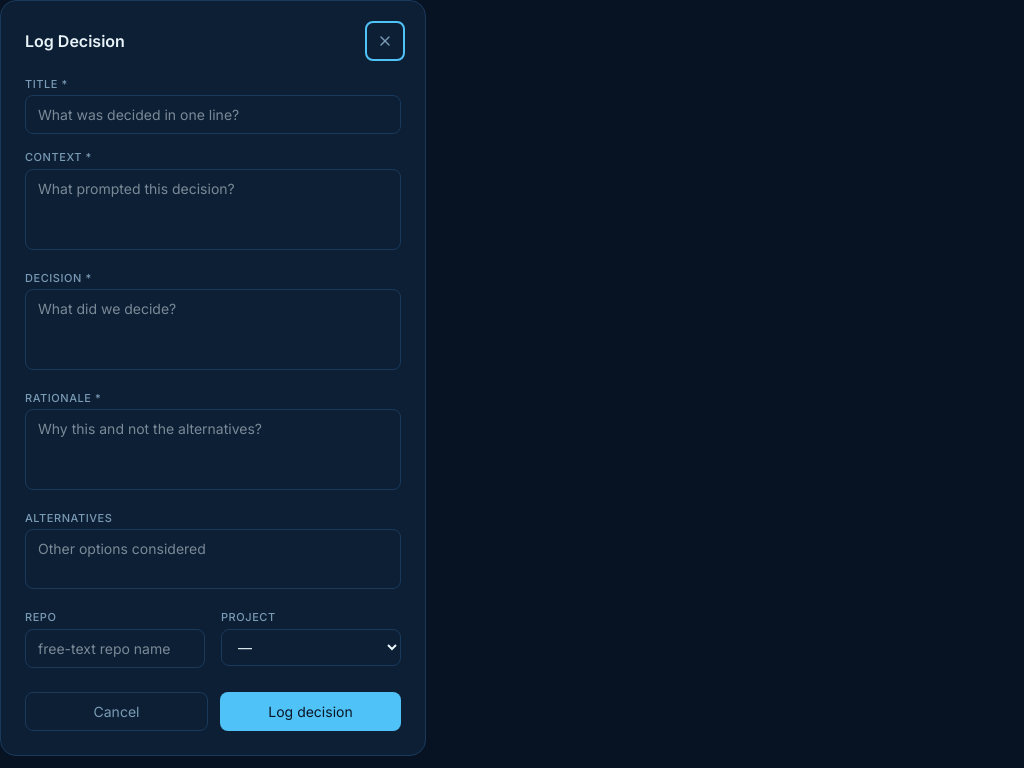
DecisionCreateModal › renders char counter on context textarea
The image size is (1024, 768).
In the text box labelled "Context *": (213, 209) x1=25 y1=169 x2=401 y2=250, type "hi"
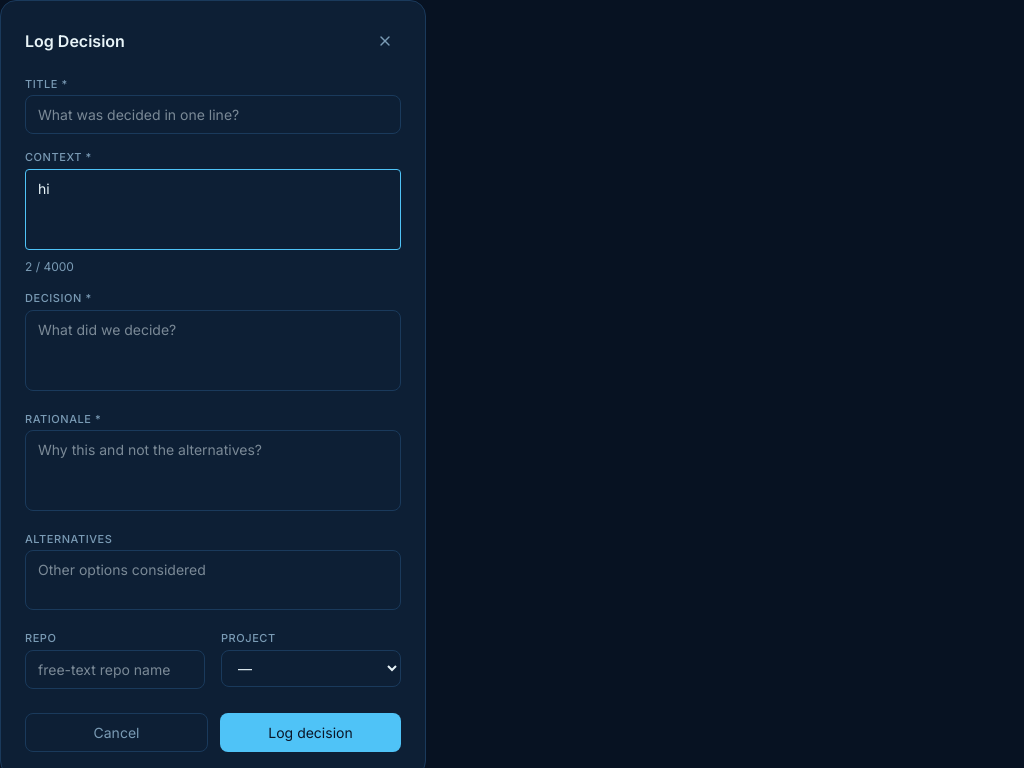
Now the text "2 / 4000" is shown, box x1=25 y1=259 x2=74 y2=274
